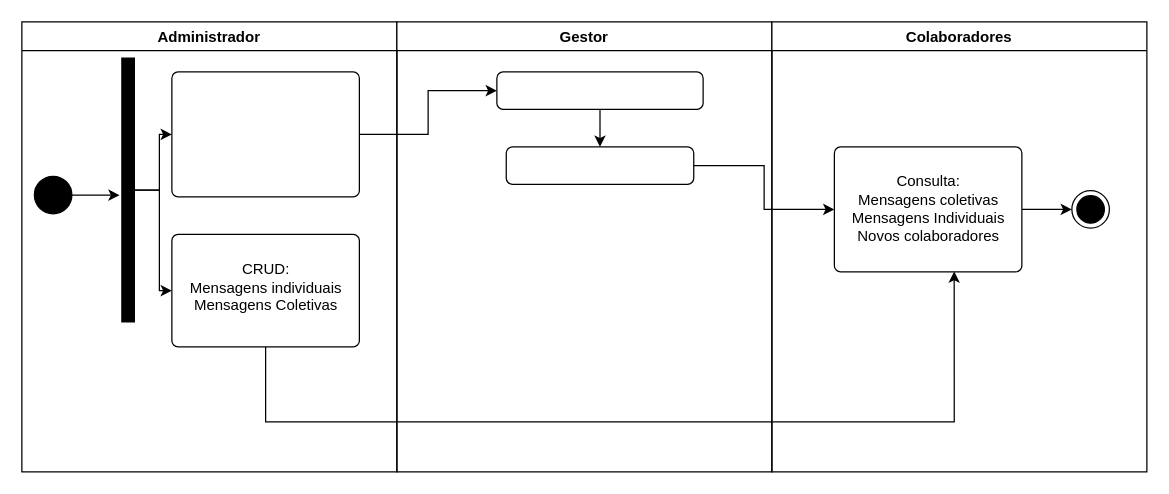
Image size: 1169x494. Some labels were removed from this diagram. The centre of each missing label's shape, as x and y in pixels:
Acessa sua equipe: the point at 599,90
Realiza CRUD mensagem: the point at 599,165
Realiza CRUD: Empresa, Estabelecimento, Centro de custo, Alocação Colaborador: the point at 265,134
